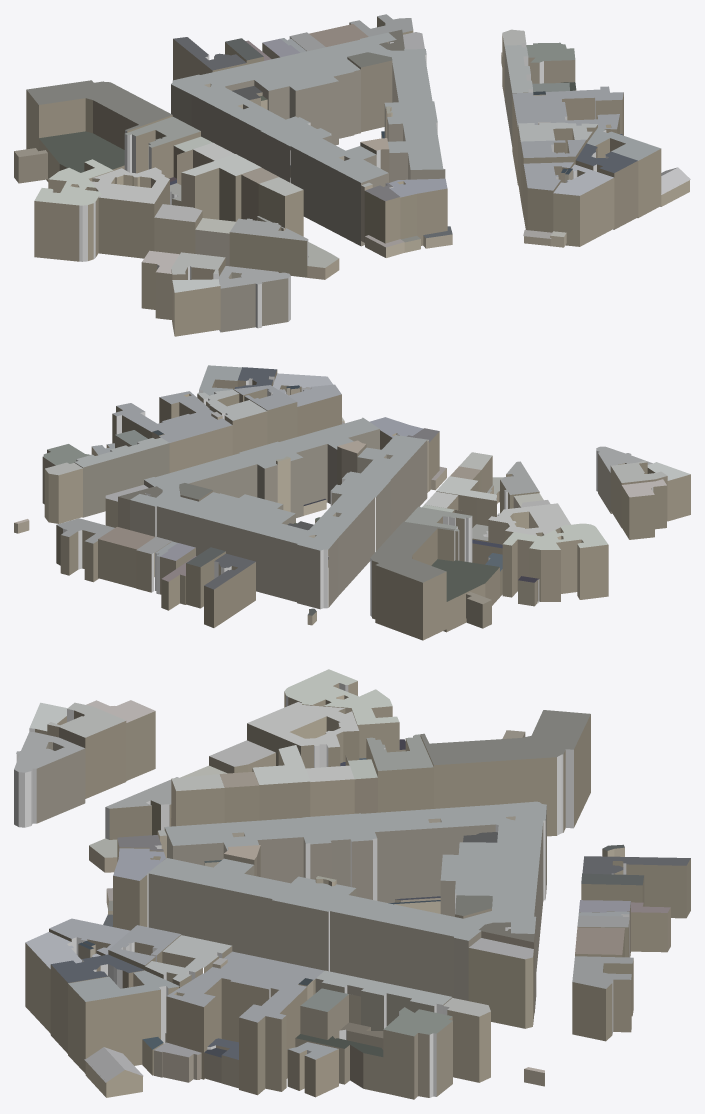
The picture shows the model from 3 angles, top to bottom: view 1: azimuth 30°, elevation 25°; view 2: azimuth 150°, elevation 25°; view 3: azimuth 270°, elevation 25°; orthographic projection. The views are drawn at different scales.
Visible parts, largest first — view 1: tuile; view 2: tuile; view 3: tuile.
Part boxes in pixels (box(x1,y1,x2,y2)): tuile: box(14, 14, 690, 336); tuile: box(14, 365, 690, 640); tuile: box(14, 669, 690, 1099).
Bounding box in the file's own units: 281 × 35.97 × 229.
